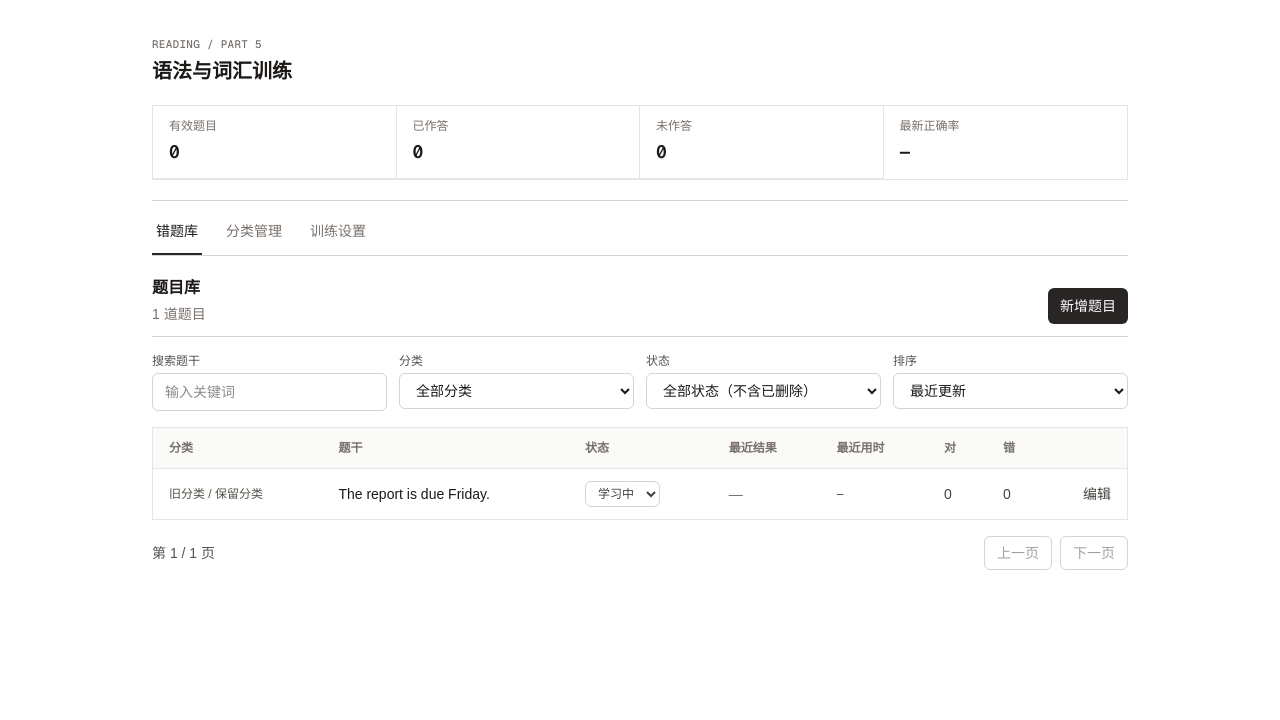
inactive category question editing › ignores an older inclusive response after the loading modal is closed and reopened
Click the button "编辑" at (1097, 494), box [1083,484,1111,504]
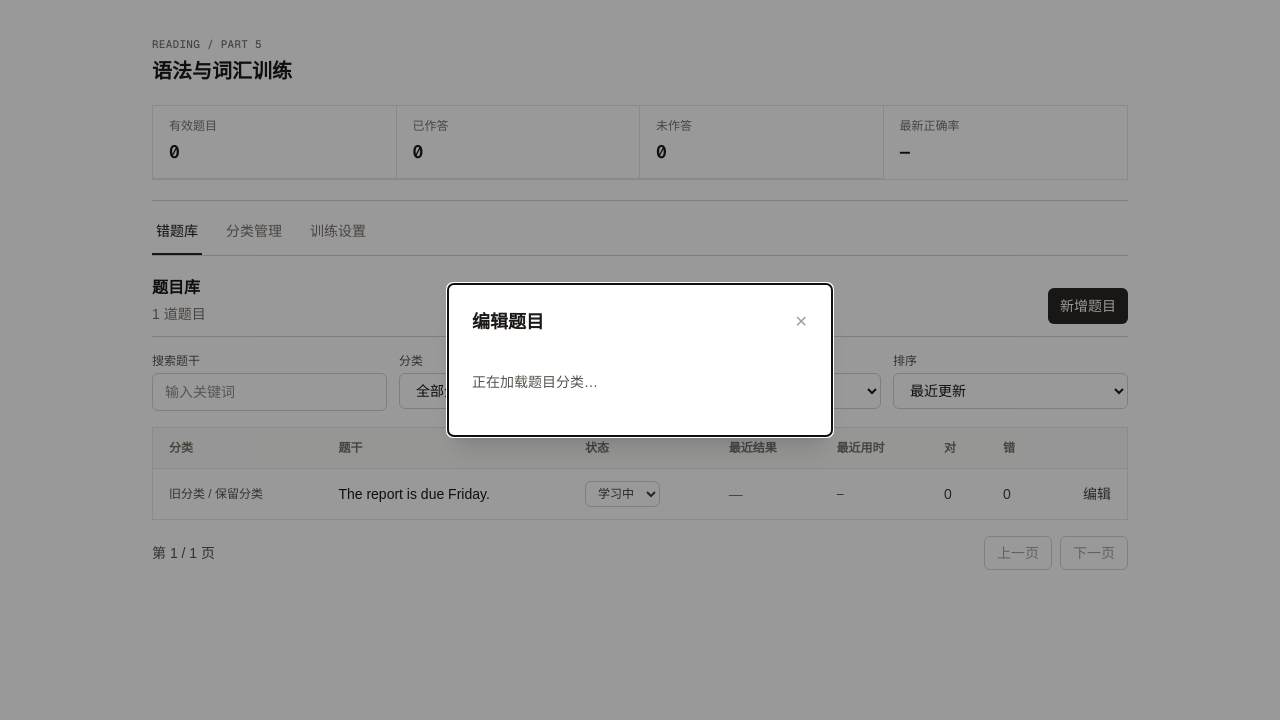
Click the button named "关闭" at (801, 322), box [795,310,808,334]
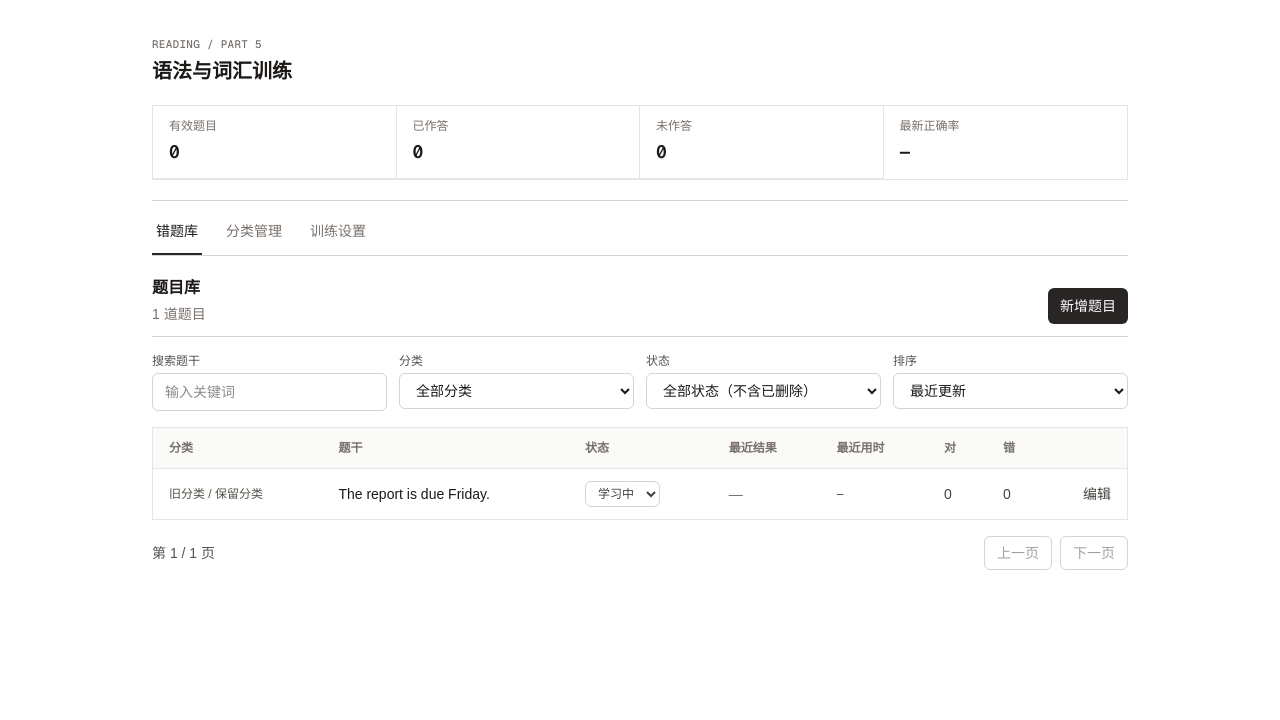
Click the button "编辑" at (1097, 494), box [1083,484,1111,504]
(page scrolled)
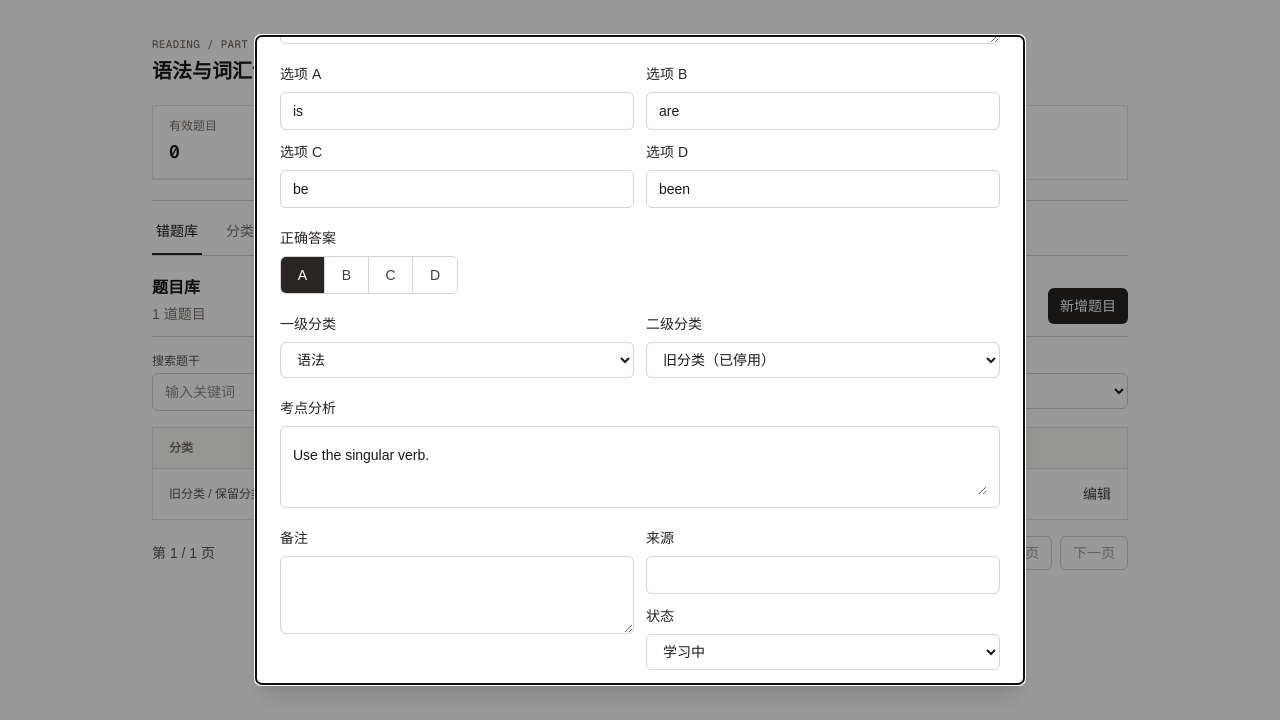
Expected: the dropdown labelled "二级分类" shows "旧分类（已停用）", [646,342,1000,378]
